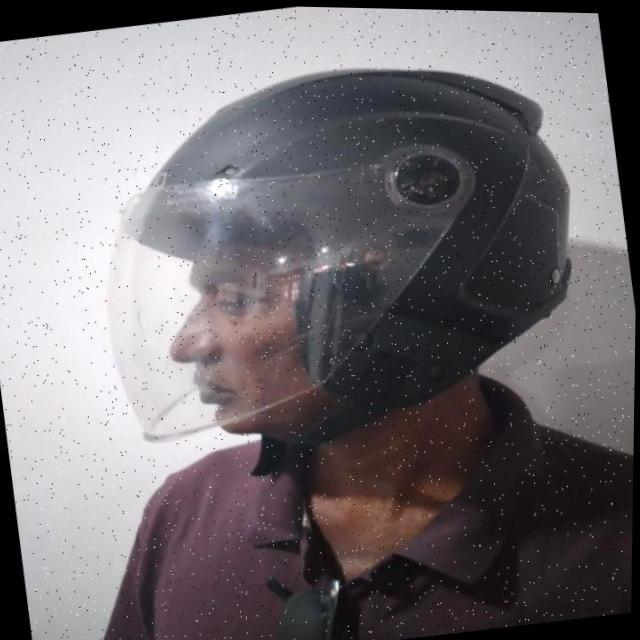helmet: (77, 34, 607, 502)
